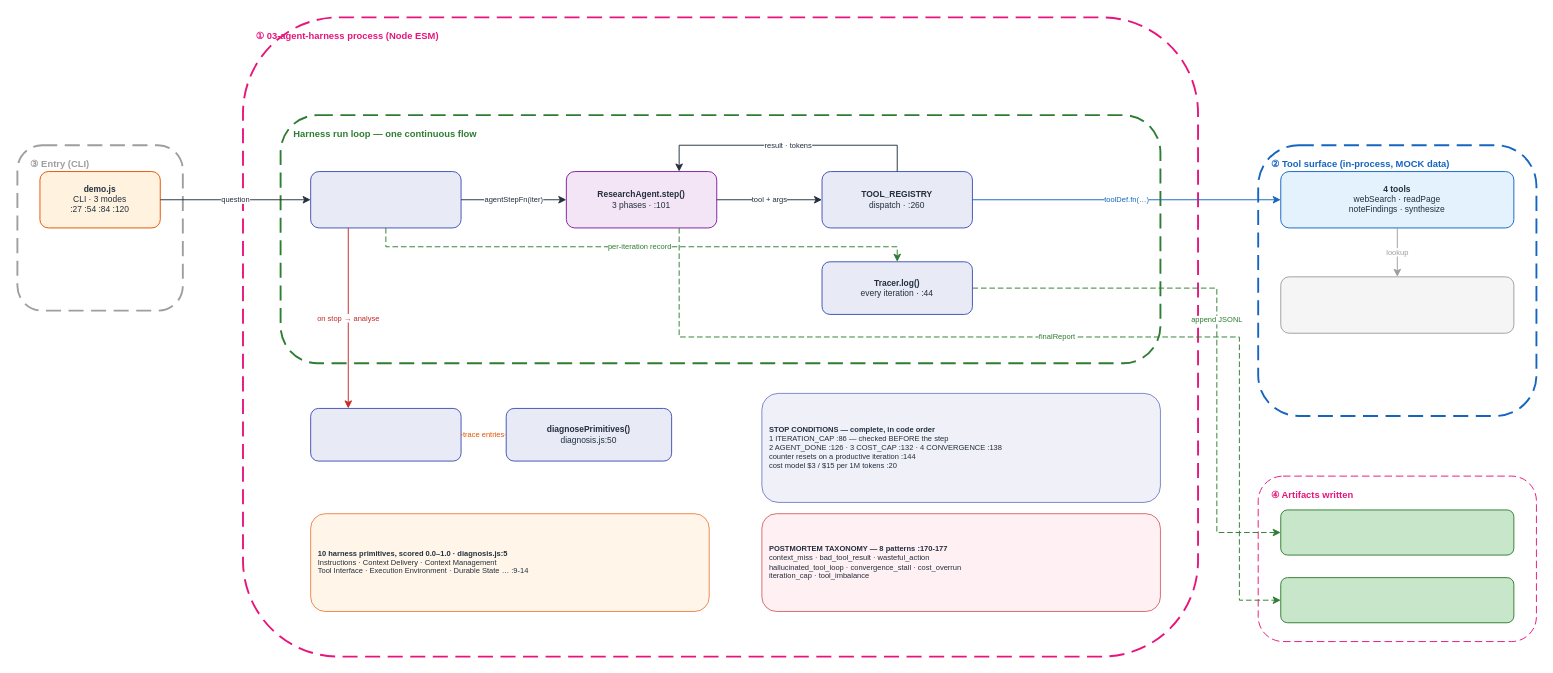
The diagram is 1553 pixels wide and 673 high, and some of its shapes have lost their labels. The shapes that lost their labels are listed below. From the top down, each one's centre as x and y in pixels, then its label:
At pixel 385 199: "AgentHarness.run() while(true) · :74 :82".
At pixel 1397 304: "MOCK corpora MOCK_SEARCH_RESULTS :17 MOCK_PAGES :55 — no network".
At pixel 385 434: "postmortem() harness.js:183".
At pixel 1397 532: "trace-<runId>.jsonl tracer.js:20".
At pixel 1397 600: "report-<runId>.md demo.js:66-67".
